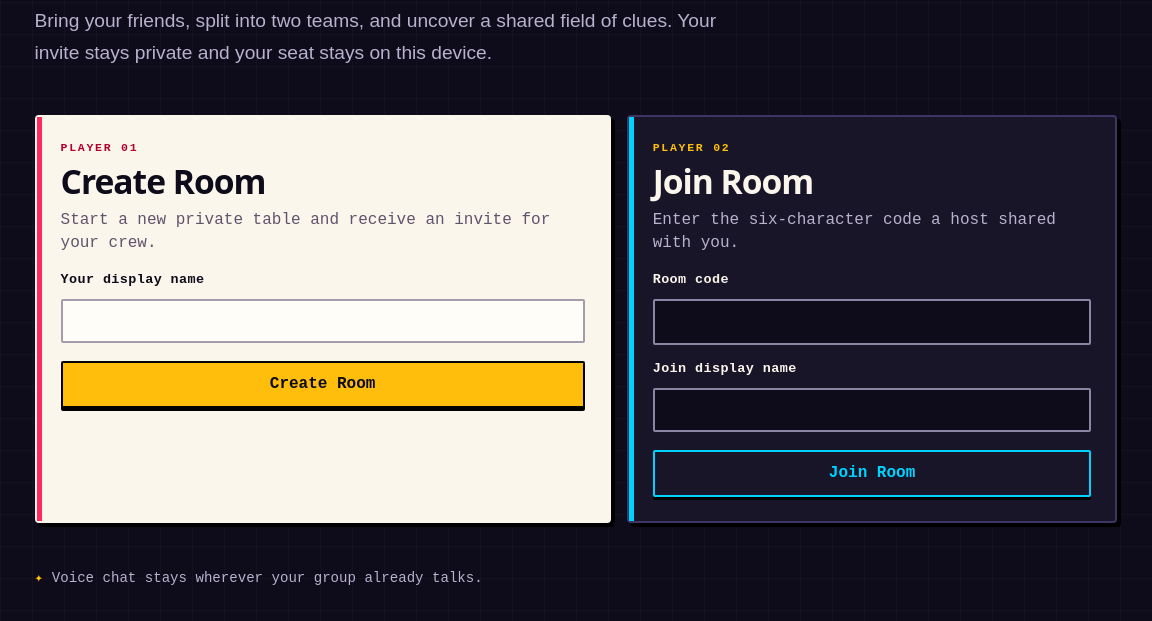
Test: HomePage › rejects Unicode room-code expansion before making a request
(page scrolled)
In the field labelled "Room code": [872, 322] box 653,299 -> 1092,345, type "ßabcde"
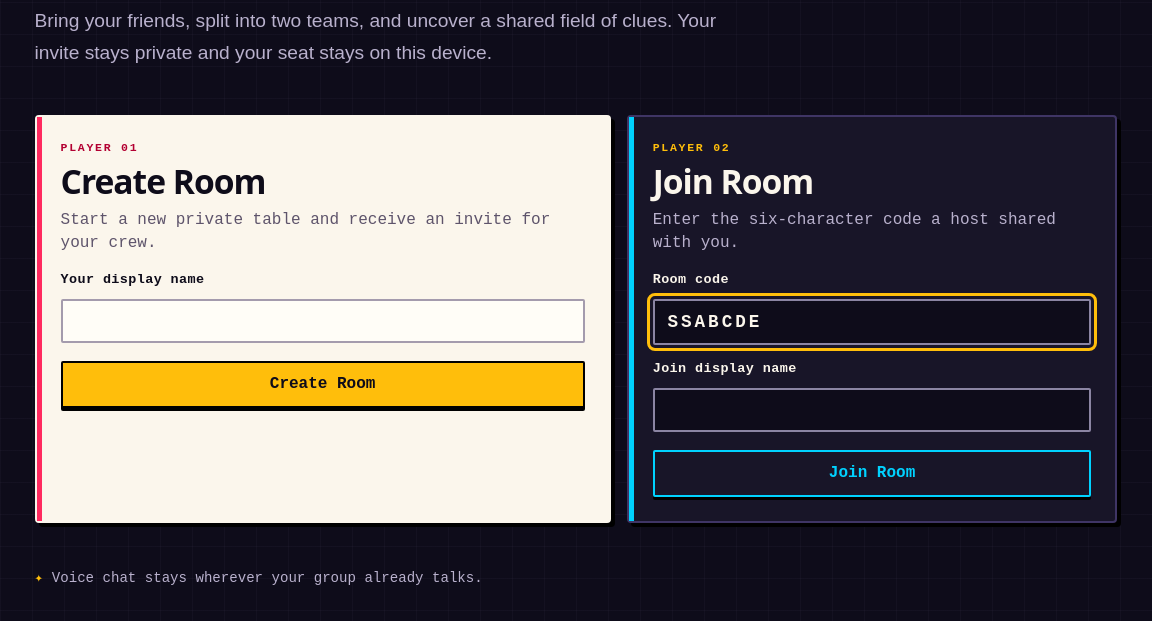
In the field labelled "Join display name": [872, 410] box 653,388 -> 1092,432, type "Guest"
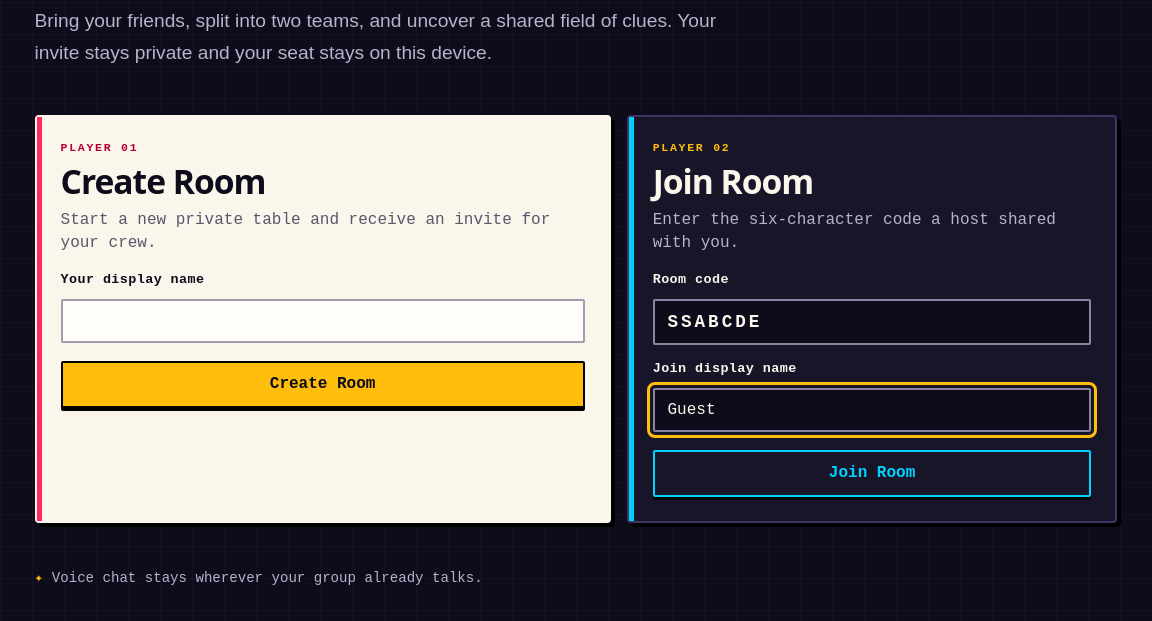
Click the button "Join Room": [872, 474] box 653,450 -> 1092,497
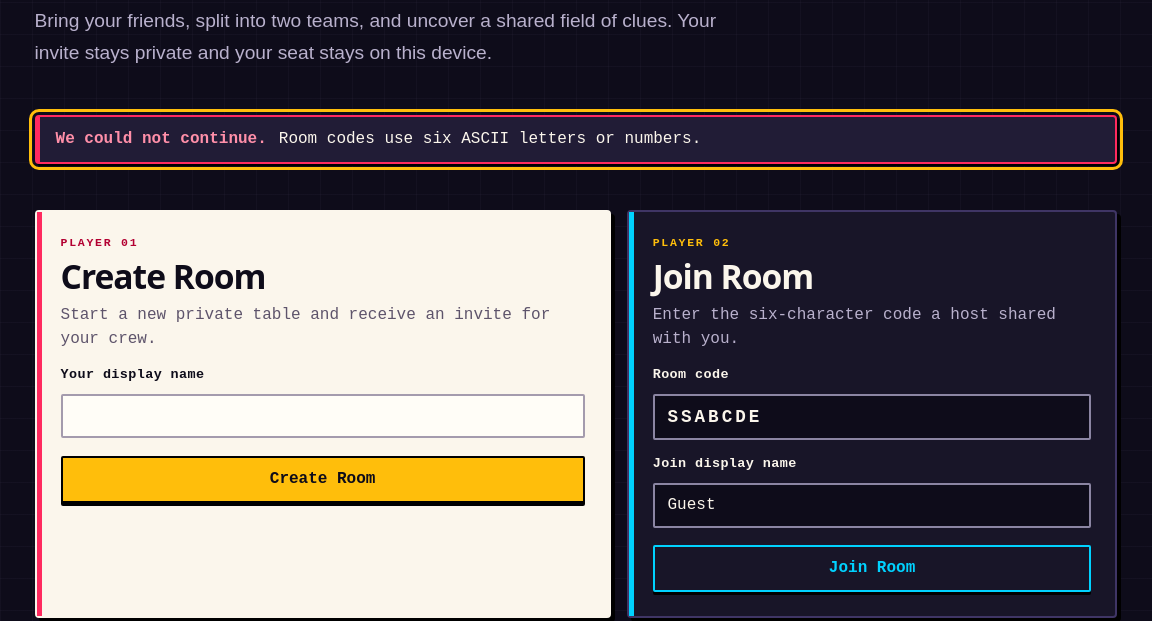
Result: the message shows "six ASCII letters or numbers" at 279,130 -> 701,148
